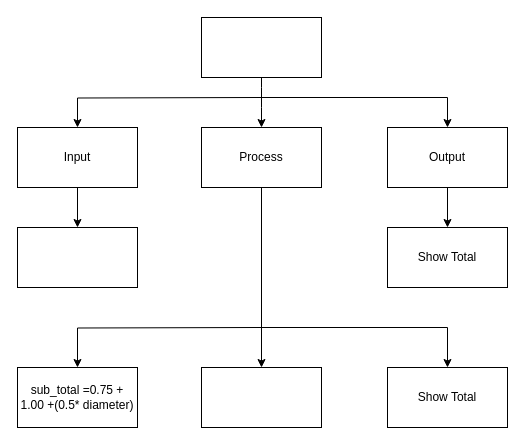
Some shapes in this 525 by 445 pixel diagram are drawn without their labels. Each missing label, with the centre of its shape:
"circumference" goes at point (261, 47).
"Get Diameter" goes at point (77, 257).
"HTS = sub_total + 1.13" goes at point (261, 397).
